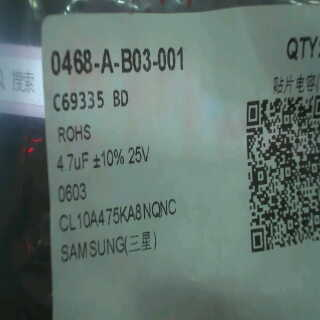4.7uF: (53, 147, 89, 177)
